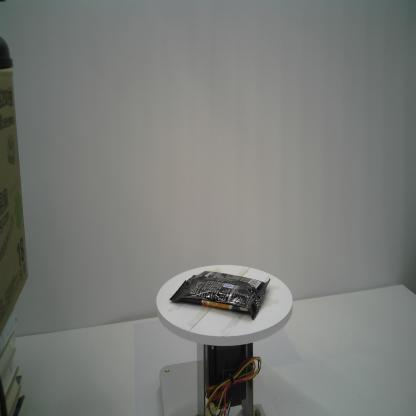Instant Drink: (169, 270, 271, 320)
